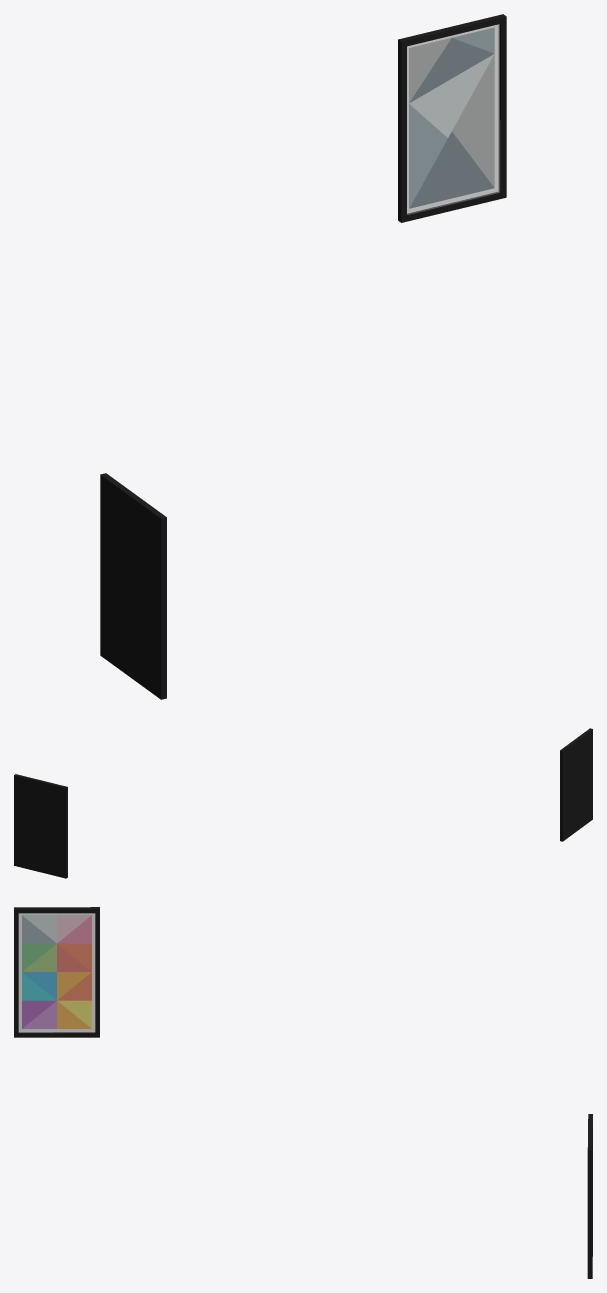
Rendered from Frames.glb.
3 renders of one model, top to bottom at view 1: azimuth 30°, elevation 25°; view 2: azimuth 150°, elevation 25°; view 3: azimuth 270°, elevation 25°, orthographic. The views are drawn at different scales.
Visible parts, largest first — view 1: Node.001, Node.002; view 2: Node.001, Node.002; view 3: Node.002, Node.001.
Boxes of the visible parts, x1,y1,x2,y2 form: Node.001: (398,14,506,222); Node.002: (100,473,166,699); Node.001: (14,774,67,878); Node.002: (560,728,592,841); Node.002: (14,907,99,1037); Node.001: (587,1114,592,1278).
Size of the model in its own units: 3.86 by 1 by 3.64.
